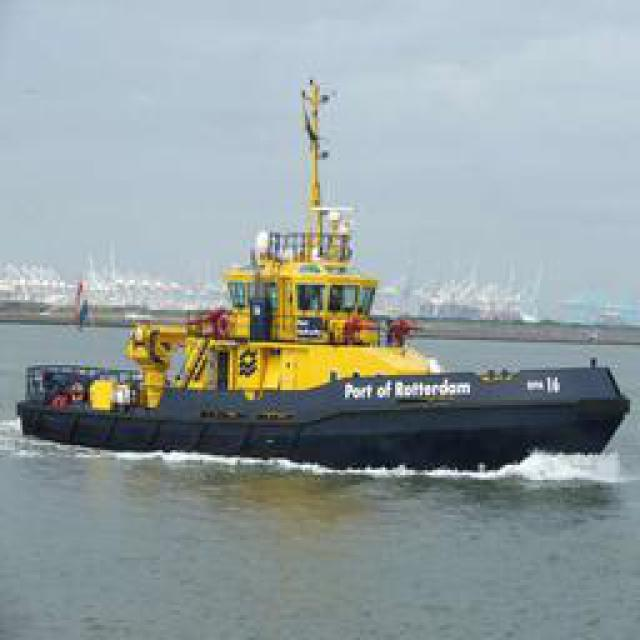Ship: (19, 71, 624, 471)
